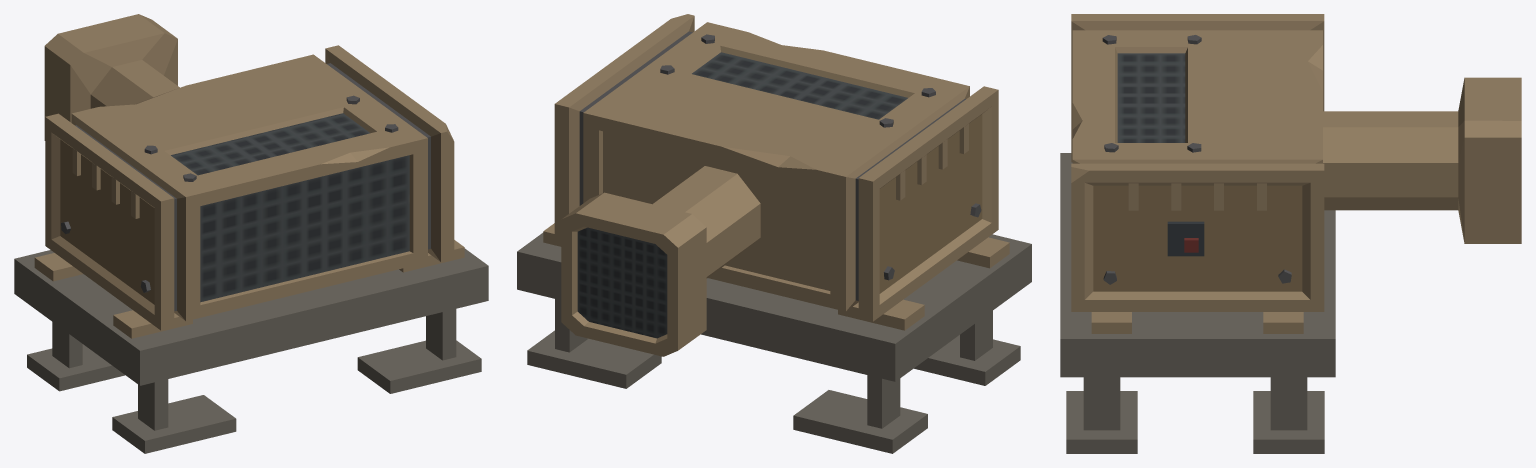
Rendered from SM_Prop_Airvent_01.glb.
3 renders of one model, left to right at view 1: azimuth 30°, elevation 25°; view 2: azimuth 150°, elevation 25°; view 3: azimuth 270°, elevation 25°, orthographic. The views are drawn at different scales.
Parts seen in each view (by area): view 1: SM_Prop_Airvent_01; view 2: SM_Prop_Airvent_01; view 3: SM_Prop_Airvent_01.
Boxes of the visible parts, box(x1,y1,x2,y2) form: SM_Prop_Airvent_01: box(14, 14, 488, 453); SM_Prop_Airvent_01: box(517, 14, 1031, 453); SM_Prop_Airvent_01: box(1060, 14, 1521, 453).
Size of the model in its own units: 1.91 by 1.3 by 2.01.
Materials: 1 (1 with a texture image).
